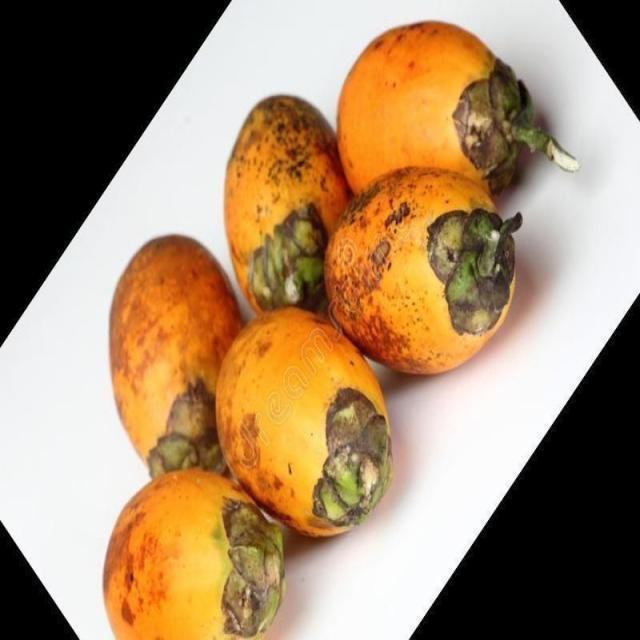good: (337, 22, 578, 198), (323, 167, 522, 377), (215, 309, 393, 543), (109, 234, 247, 478), (102, 469, 288, 639), (223, 94, 354, 319)
